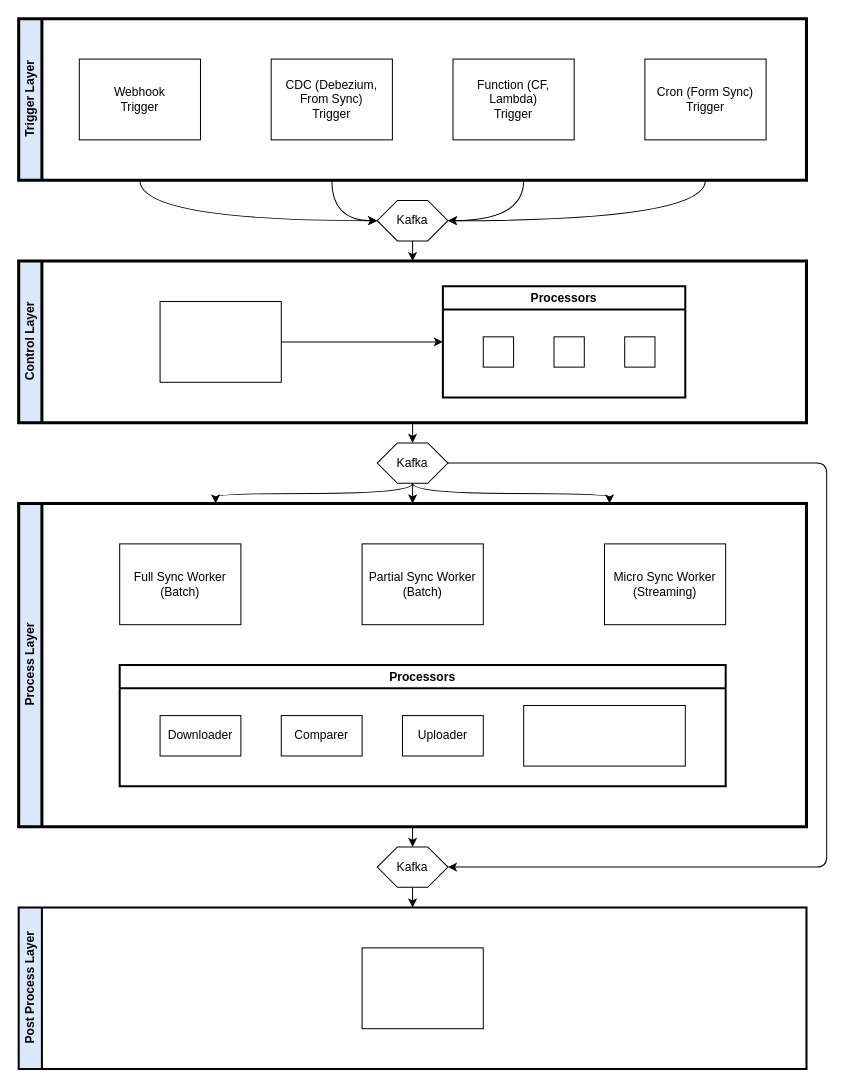
Image size: 852x1088. Some labels were removed from this diagram. The centre of each missing label's shape, as x and y in pixels:
"Controller (Checking - Alerting), Routing, Queueing)" goes at (x=220, y=341).
"Pipeline (Dataflow, Spark, ...)" goes at (x=604, y=735).
"Post Processor" goes at (x=422, y=988).
